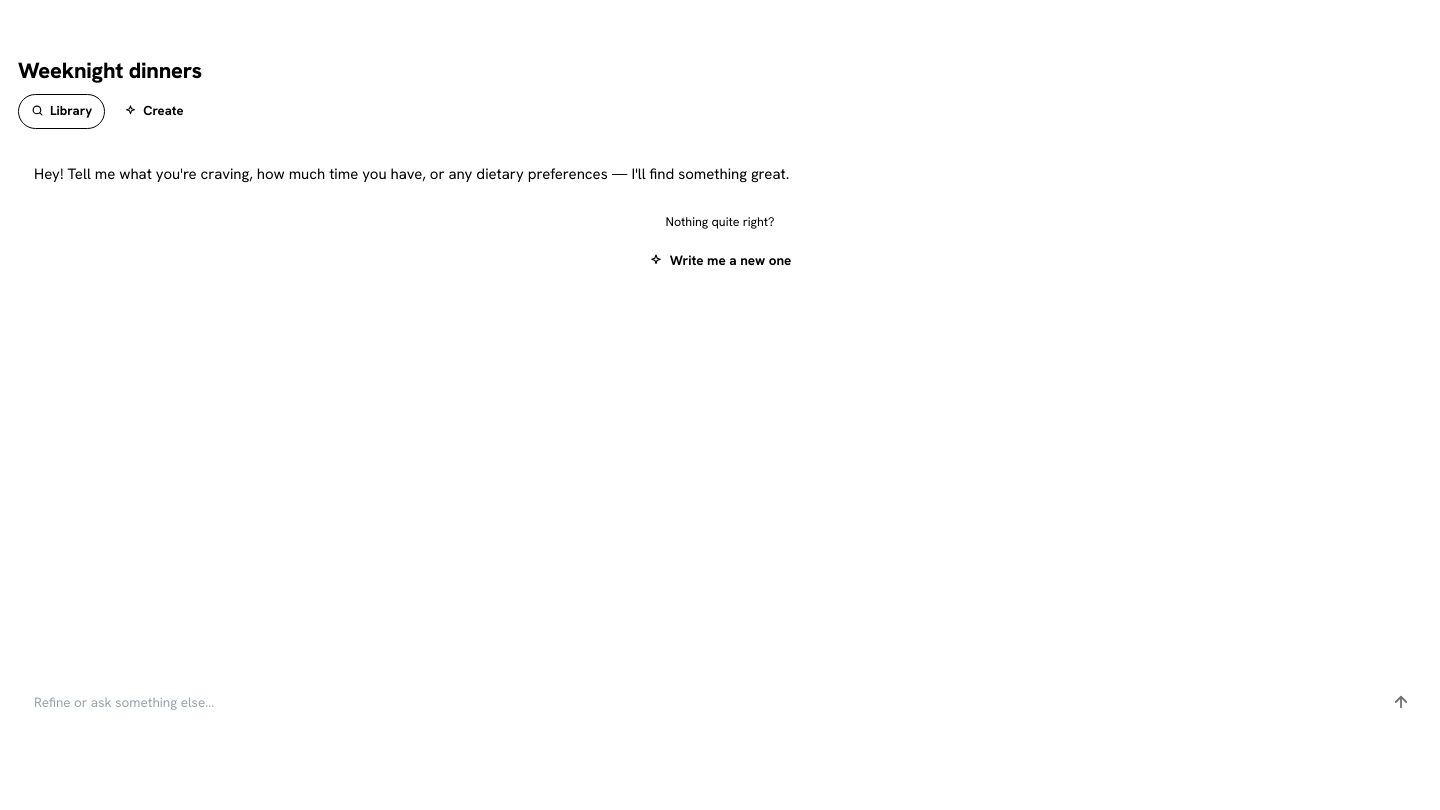
it: ChatPage — Library and Create modes › the foot-of-thread handoff is the route into Create, and carries no second input
Check: the text "Tell me what you're craving" is shown, box [34, 164, 789, 184]
Click the button "Write me a new one" at (720, 260), box [18, 240, 1422, 280]
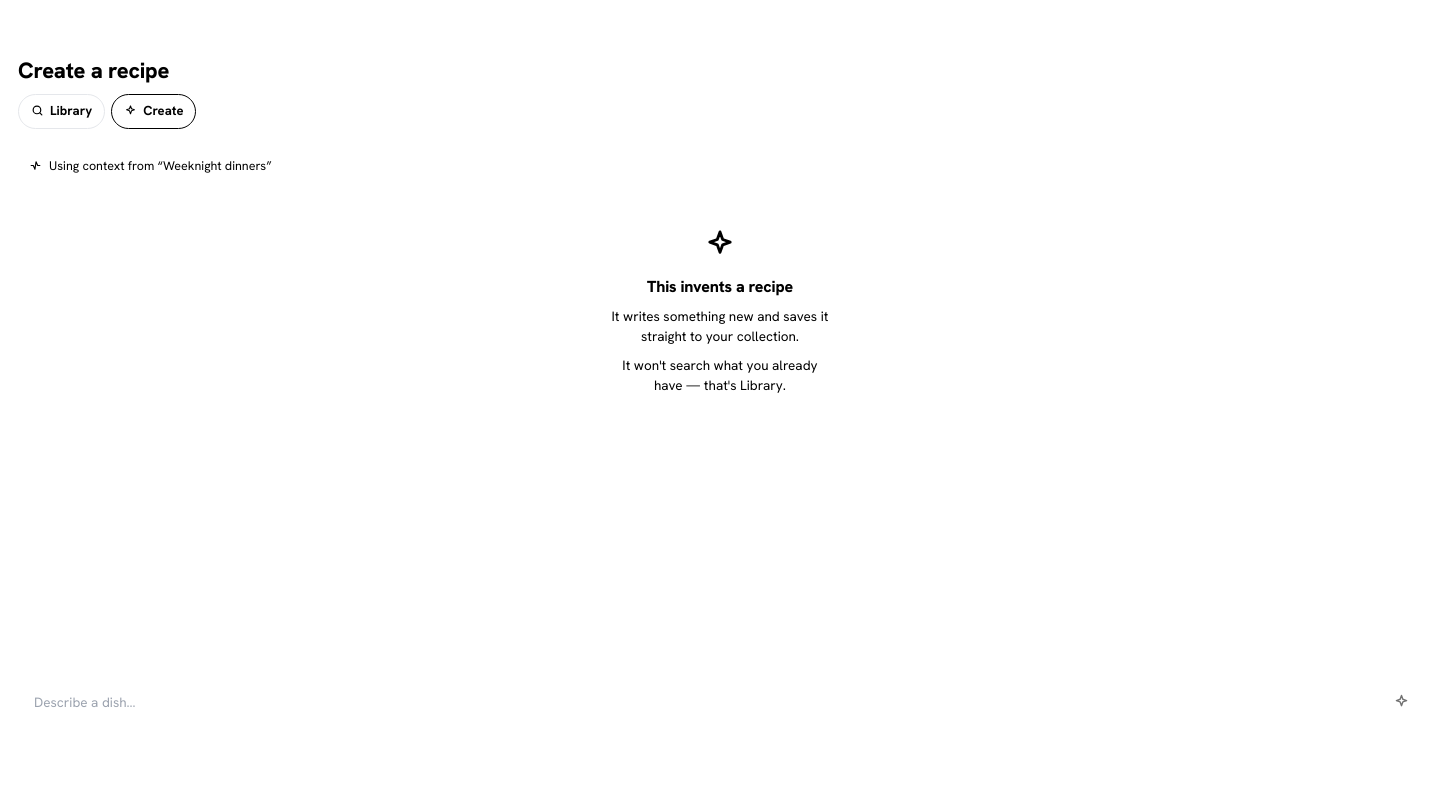
Check: the field named "Describe the recipe to generate" is shown, box [18, 680, 1371, 724]
Check: the button "Write me a new one" is gone
